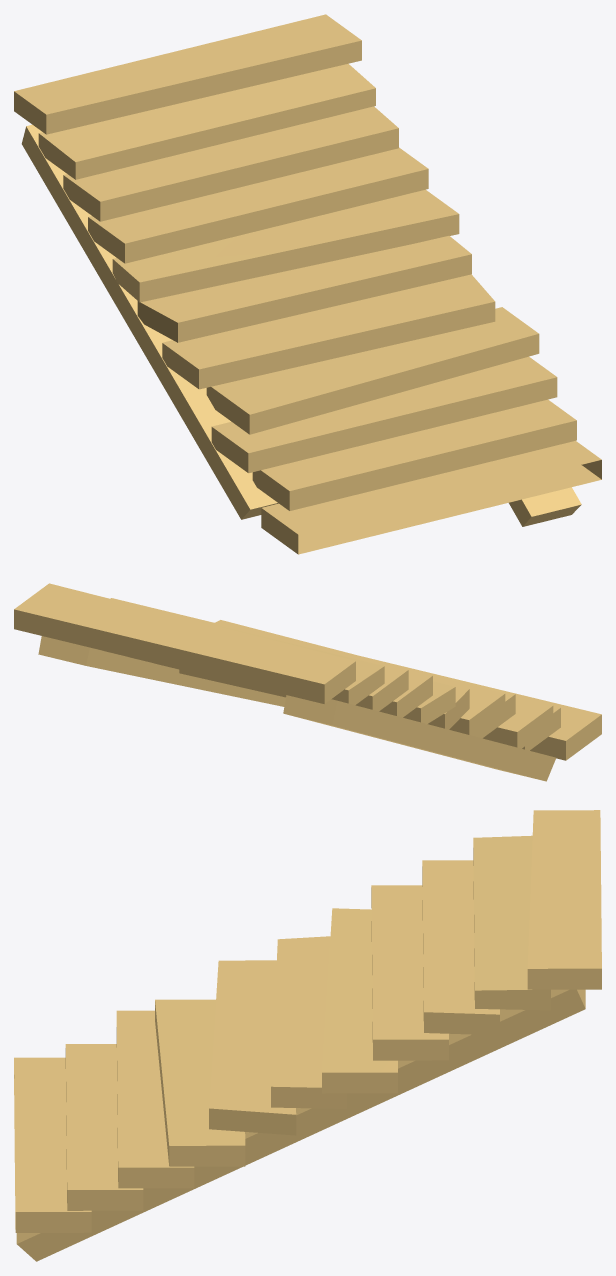
File: stairs001.fbx
3 views of the same model, one above another, from view 1: azimuth 30°, elevation 25°; view 2: azimuth 150°, elevation 25°; view 3: azimuth 270°, elevation 25° (orthographic). The views are drawn at different scales.
Parts seen in each view (by area): view 1: MERDIVEN_002; view 2: MERDIVEN_002; view 3: MERDIVEN_002.
Boxes of the visible parts, box(x1,y1,x2,y2) form: MERDIVEN_002: box(14, 14, 601, 554); MERDIVEN_002: box(14, 583, 601, 781); MERDIVEN_002: box(14, 810, 601, 1261).
Bounding box in the file's own units: 627 × 551 × 958.
